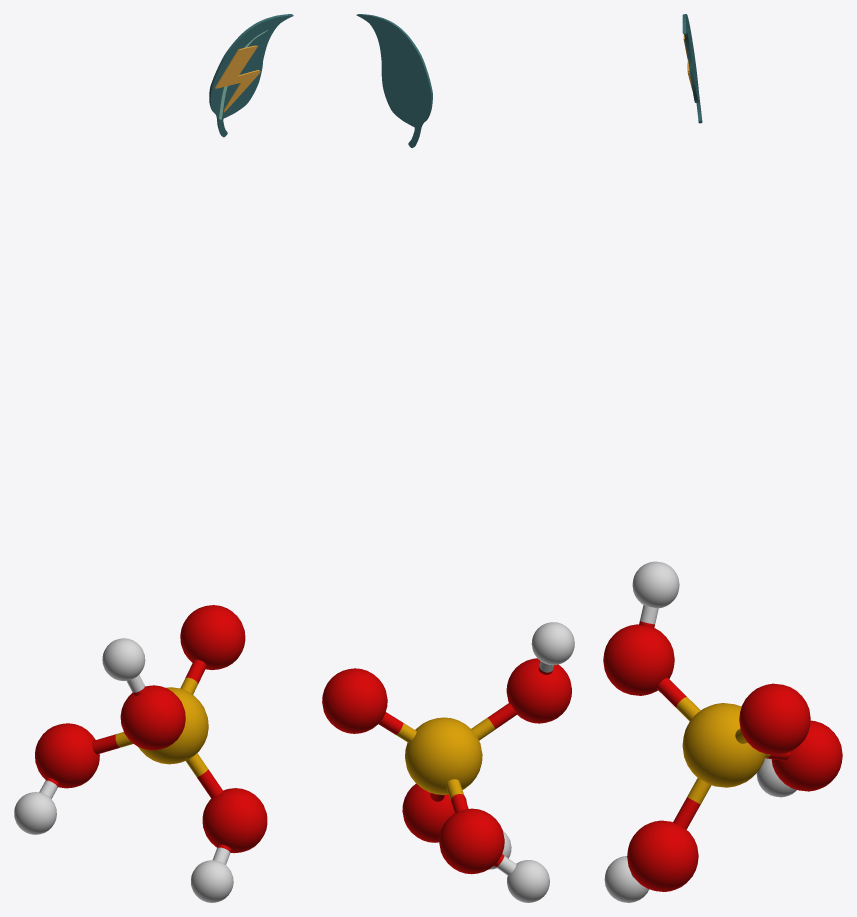
The model's file is molecule.glb.
The picture shows the model from 3 angles, left to right: view 1: azimuth 30°, elevation 25°; view 2: azimuth 150°, elevation 25°; view 3: azimuth 270°, elevation 25°; orthographic projection. The views are drawn at different scales.
Parts seen in each view (by area): view 1: h3po4_molecul, path182, path186; view 2: h3po4_molecul, path182; view 3: h3po4_molecul, path182.
Part boxes in pixels (box(x1,y1,x2,y2)): h3po4_molecul: box(14, 605, 267, 902); path182: box(209, 14, 293, 137); path186: box(215, 45, 260, 112); h3po4_molecul: box(322, 622, 574, 902); path182: box(356, 14, 432, 147); h3po4_molecul: box(603, 561, 842, 902); path182: box(682, 14, 702, 123).
Size of the model in its own units: 1.75 by 6.06 by 1.42.
